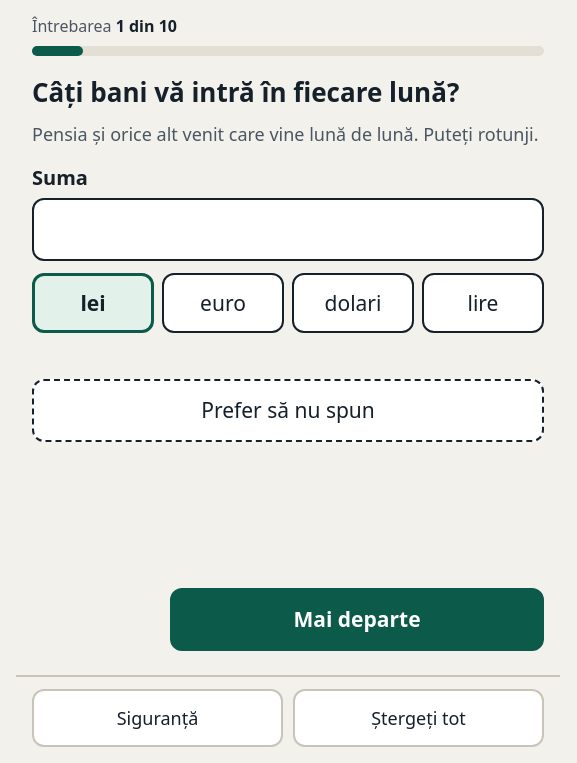
Test: sumele › o suma neclara este refuzata, cu explicatie, si nu se salveaza
Type "20,000" into the field labelled "Suma".
click(288, 229); type("20,000")  # box [32, 198, 544, 261]
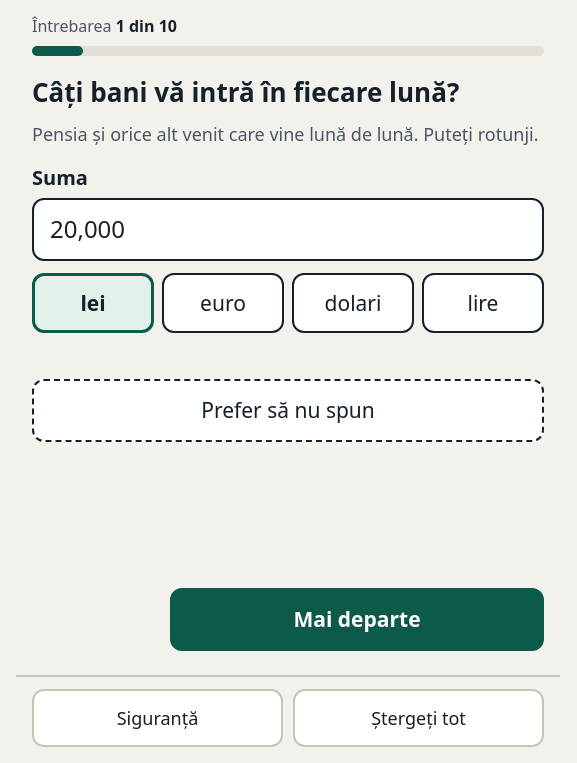
Expected: the text "Am înțeles" is not shown
Click the button "Mai departe".
click(357, 620)  # box [170, 588, 544, 651]
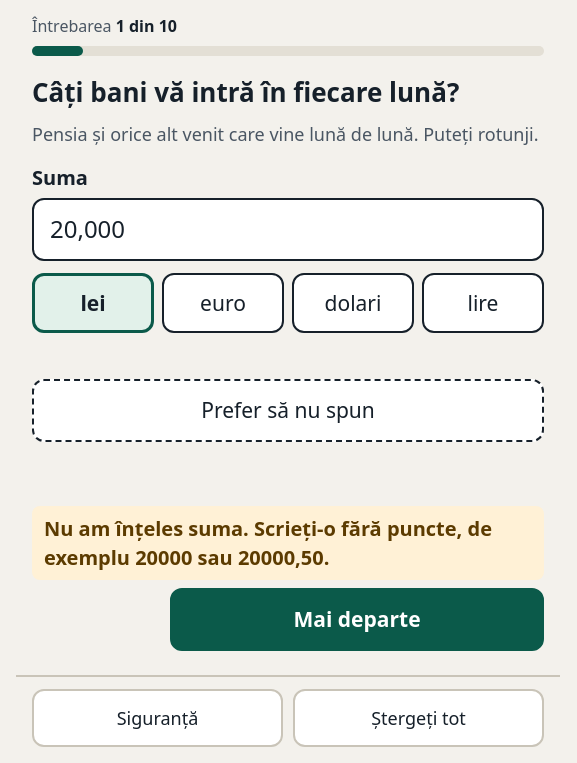
Result: the message shows "Nu am înțeles suma" at [44, 516, 492, 572]
